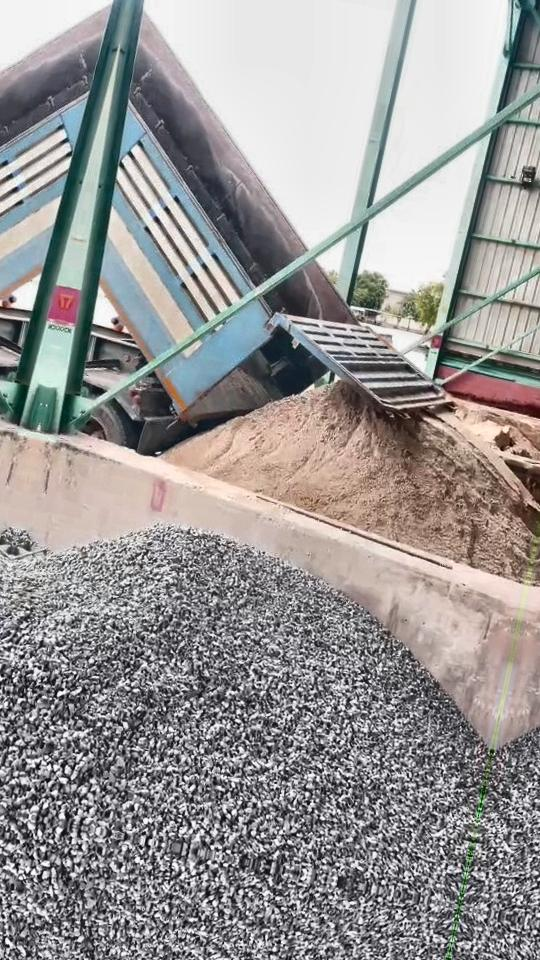gravel: (0, 526, 487, 904)
sand: (165, 383, 538, 581), (469, 420, 540, 461)
